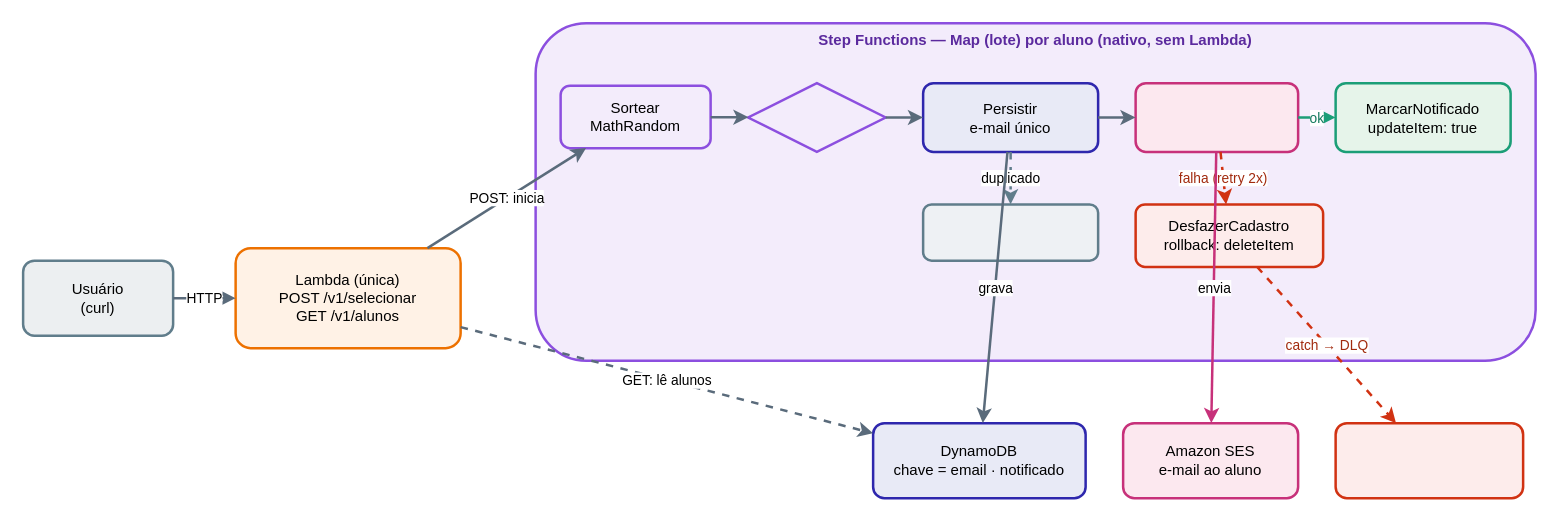
Some shapes in this 1558 by 520 pixel diagram are drawn without their labels. Each missing label, with the centre of its shape:
"Choice lema" goes at [816,116].
"e-mail repetido → duplicado" goes at [1010,231].
"Notificar SES sendEmail" goes at [1216,116].
"SQS DLQ falhas de e-mail" goes at [1429,460].
